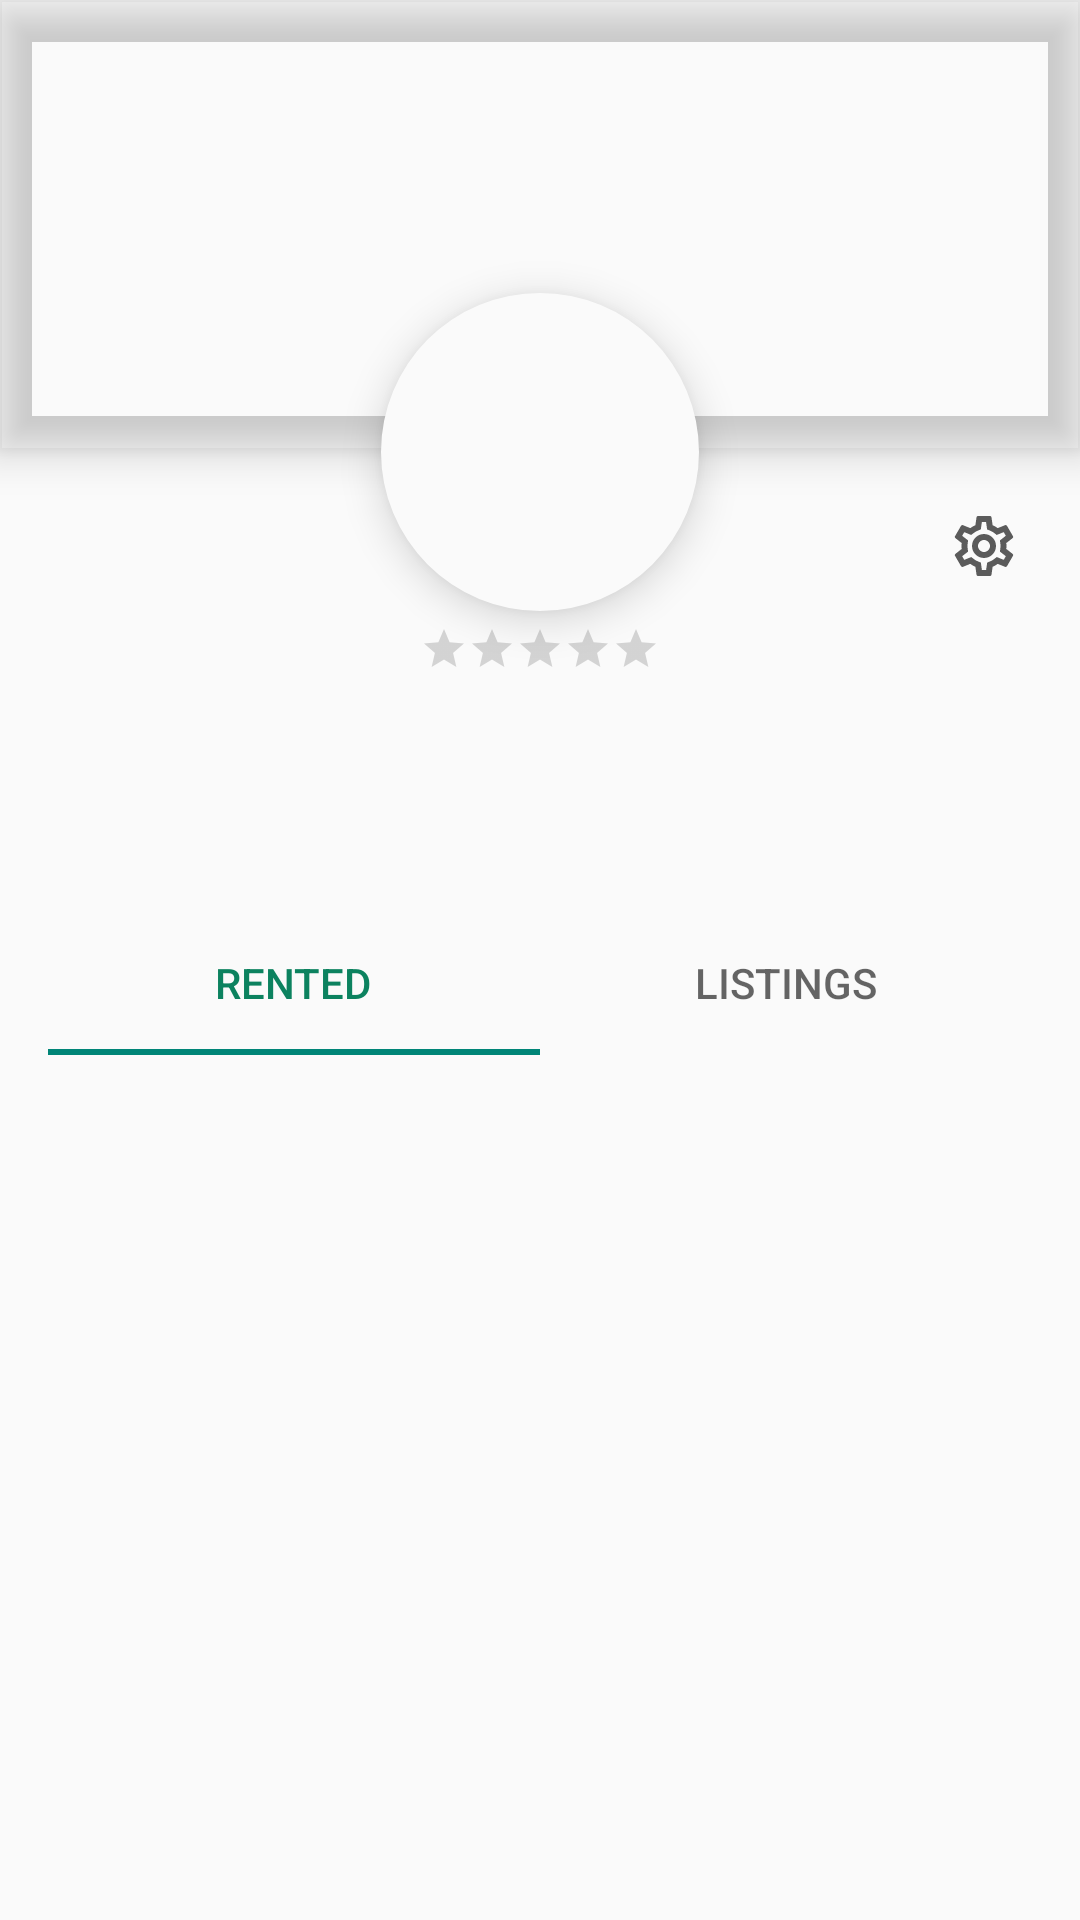

Locate icon controls on the screen. Image size 1080*1920, boxes as (x1, y1, x2, y2).
settings: (955, 516, 1013, 576)
